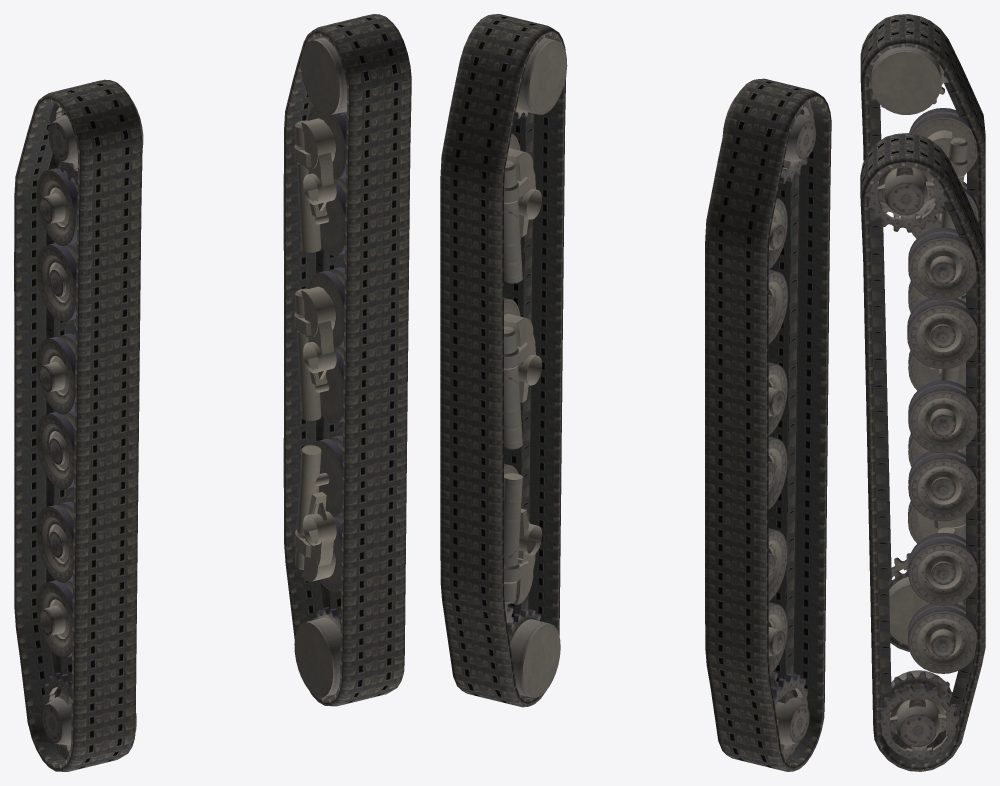
File: Chassis.glb
3 renders of one model, left to right at view 1: azimuth 30°, elevation 25°; view 2: azimuth 150°, elevation 25°; view 3: azimuth 270°, elevation 25°, orthographic. The views are drawn at different scales.
Parts seen in each view (by area): view 1: set_1_group_0, set_0_group_0, set_3_group_0, set_2_group_0; view 2: set_1_group_0, set_0_group_0, set_3_group_0, set_2_group_0; view 3: set_3_group_0, set_0_group_0, set_2_group_0, set_1_group_0.
Boxes of the visible parts, x1,y1,x2,y2 form: set_1_group_0: (14,79,142,771); set_0_group_0: (283,14,411,706); set_3_group_0: (294,37,347,697); set_2_group_0: (36,99,143,759); set_1_group_0: (705,78,831,771); set_0_group_0: (440,14,566,707); set_3_group_0: (504,37,567,697); set_2_group_0: (722,94,816,759); set_3_group_0: (868,165,977,759); set_0_group_0: (860,133,985,771); set_2_group_0: (869,46,978,644); set_1_group_0: (860,14,985,651).
Bounding box in the file's own units: 3.45 × 6.77 × 1.25.
4 materials, 4 textured.
